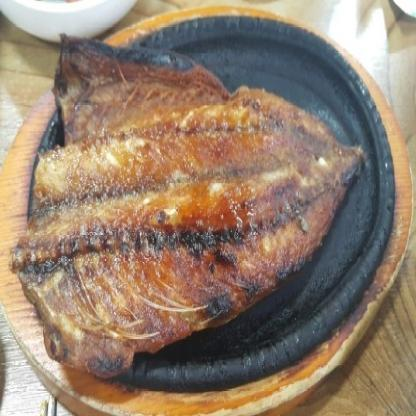Peixe: (11, 40, 370, 398)
